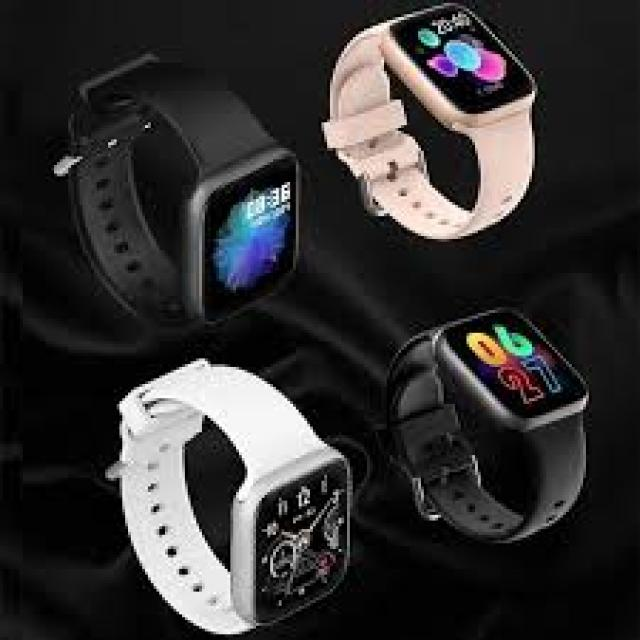objects: (105, 358, 350, 631), (68, 57, 296, 324), (321, 3, 535, 239), (387, 307, 586, 540)
